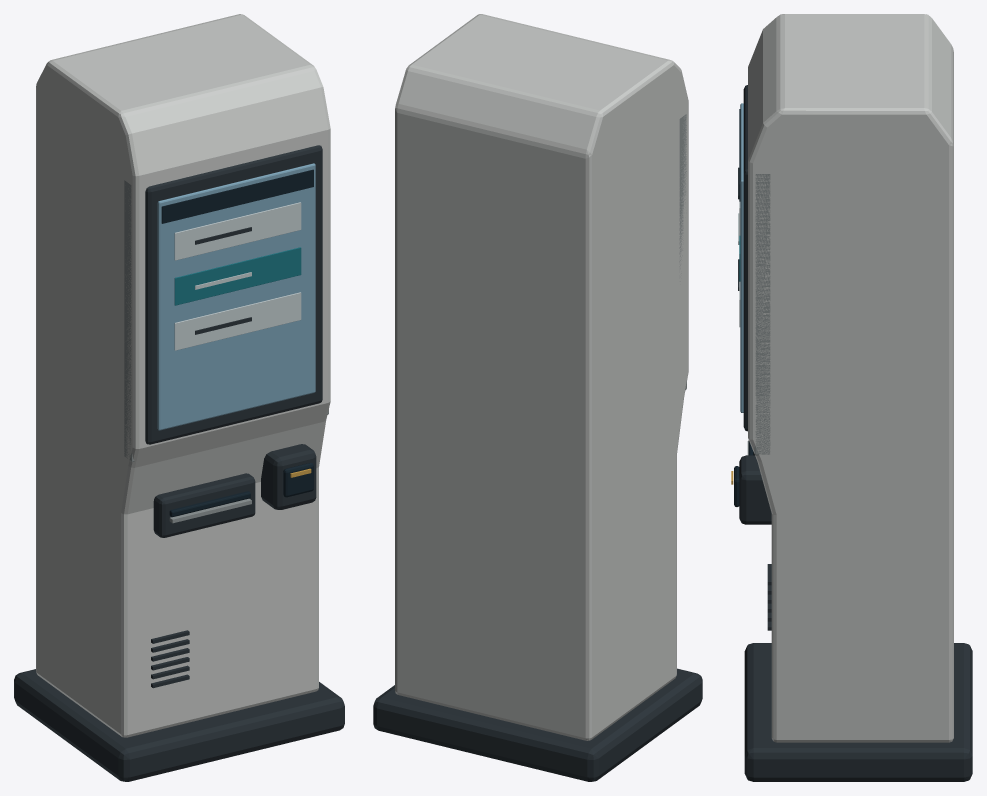
Rendered from ticket-kiosk.glb.
3 renders of one model, left to right at view 1: azimuth 30°, elevation 25°; view 2: azimuth 150°, elevation 25°; view 3: azimuth 270°, elevation 25°, orthographic. The views are drawn at different scales.
Visible parts, largest first — view 1: TicketKiosk; view 2: TicketKiosk; view 3: TicketKiosk.
Boxes of the visible parts, x1,y1,x2,y2 form: TicketKiosk: (14, 14, 344, 781); TicketKiosk: (373, 14, 702, 781); TicketKiosk: (731, 14, 972, 781).
Size of the model in its own units: 0.64 by 1.78 by 0.5825.
